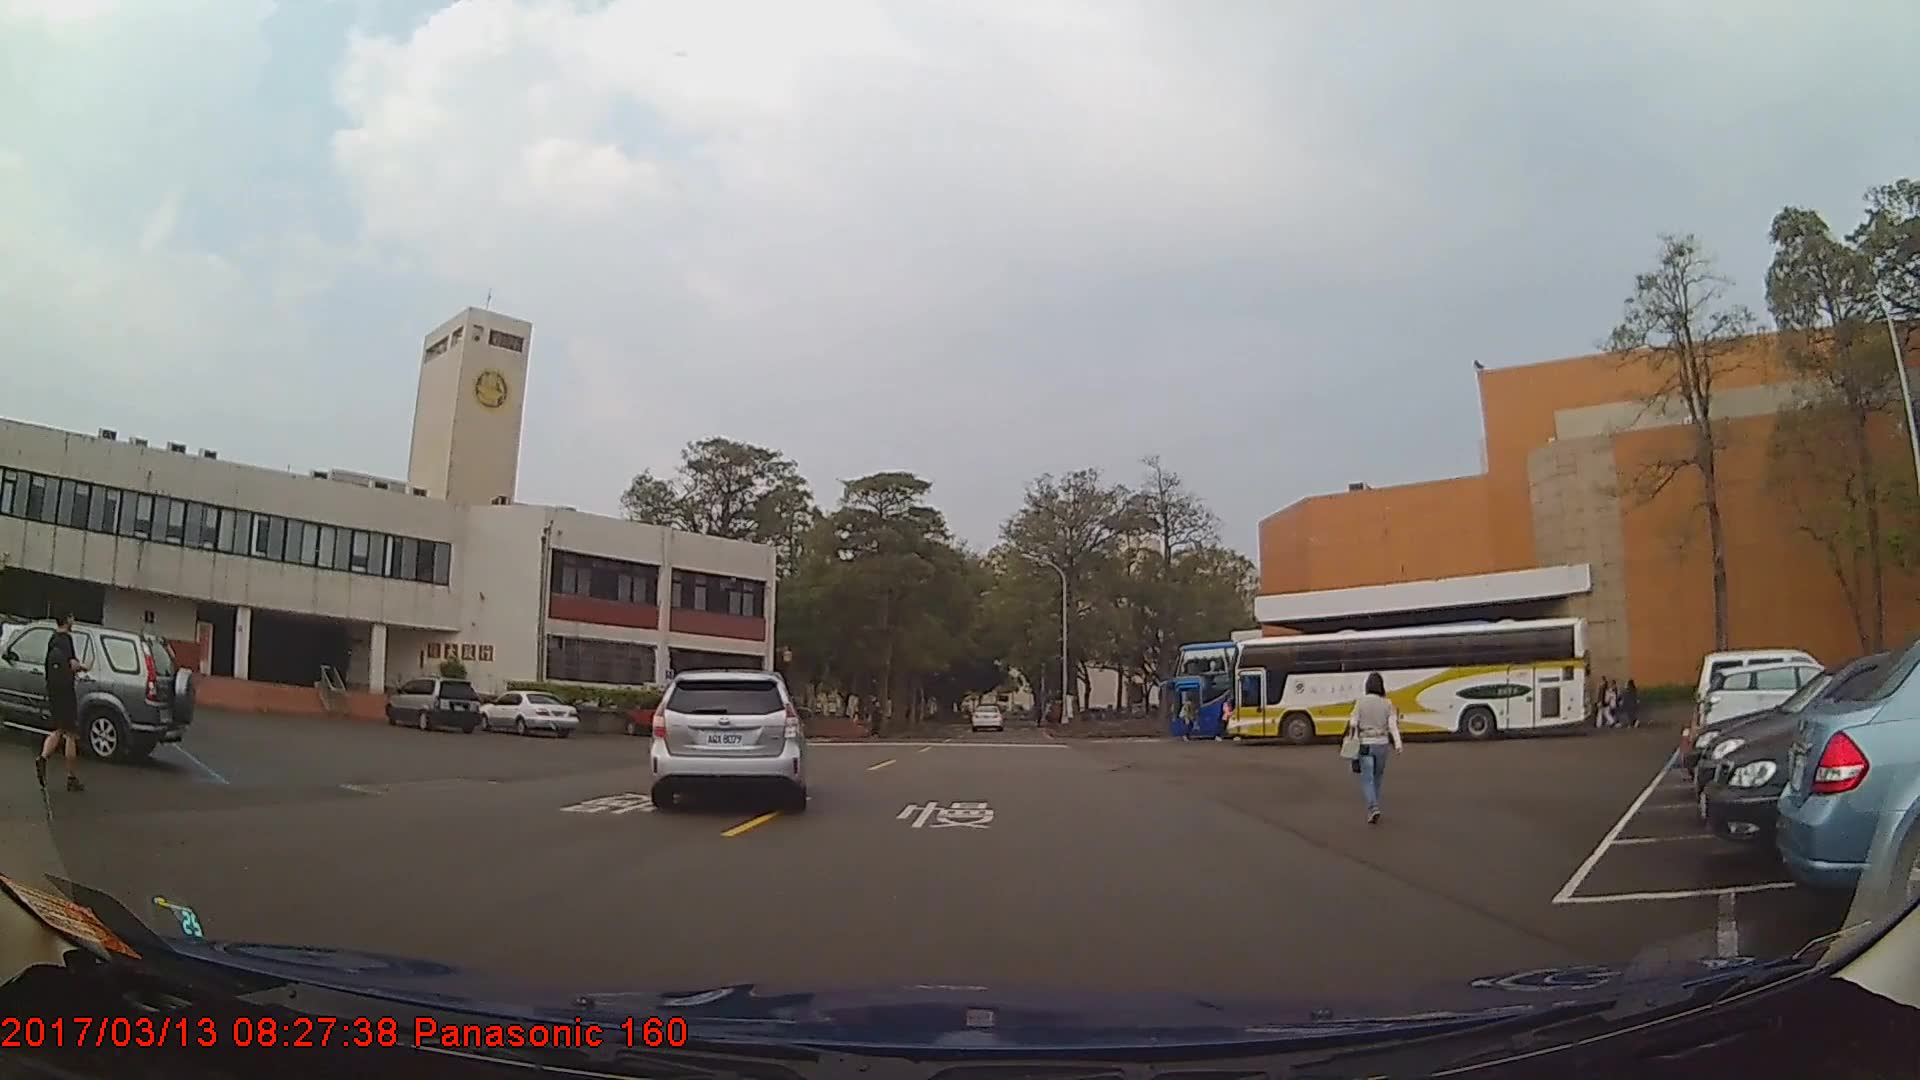pedestrian: (37, 602, 90, 794), (1344, 664, 1399, 821), (1618, 668, 1648, 731)
vehicle: (1224, 615, 1590, 746), (1775, 634, 1920, 925), (1691, 650, 1920, 829), (1165, 639, 1470, 738), (1, 617, 194, 762), (650, 665, 803, 809), (1701, 658, 1871, 746), (383, 674, 480, 730), (475, 687, 579, 735), (971, 705, 1003, 732)
